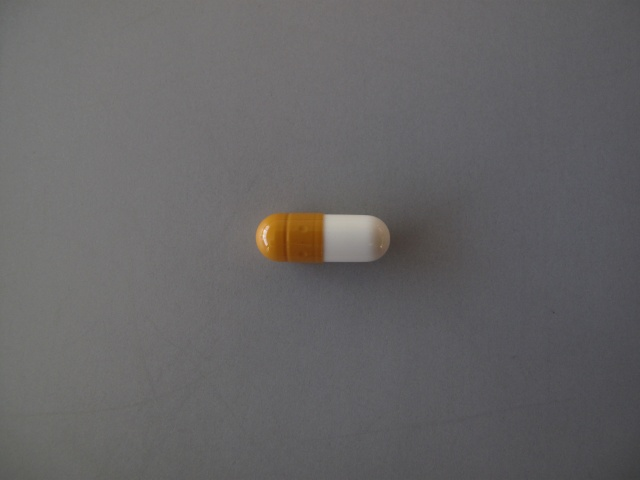capsule: (253, 211, 396, 267)
